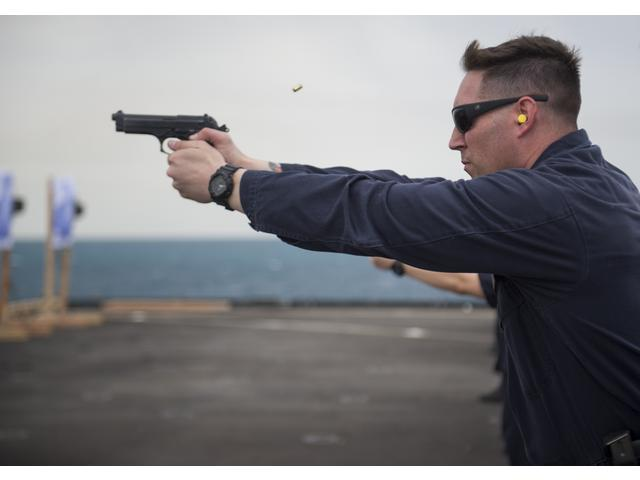pistol: (104, 109, 229, 200)
